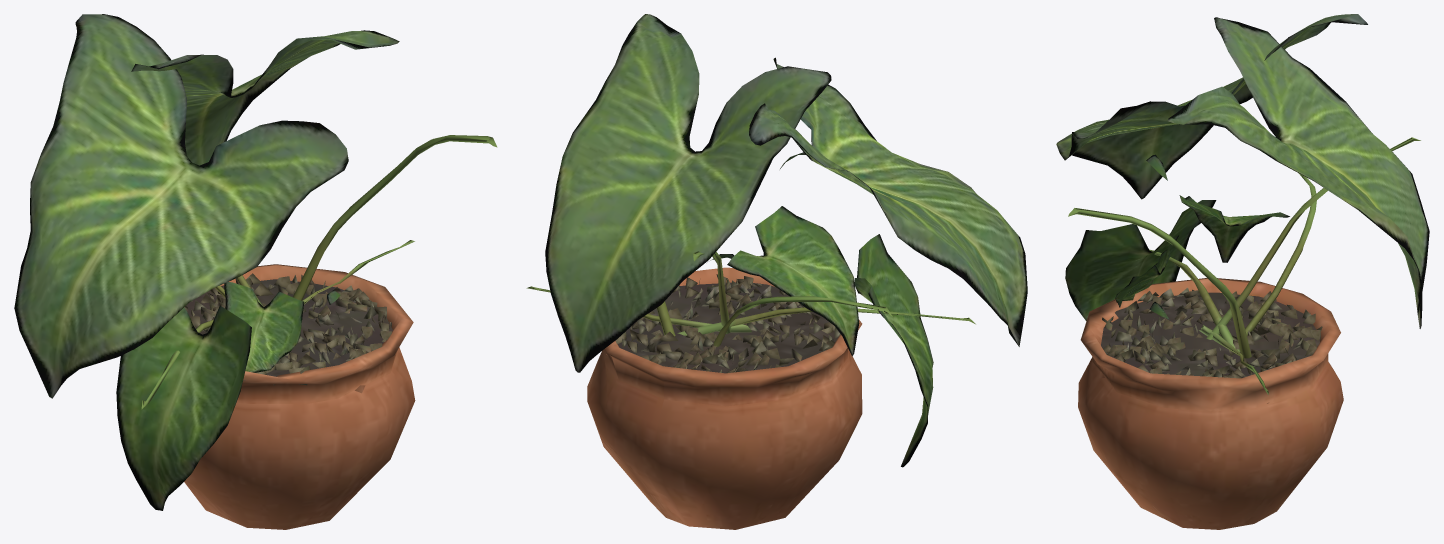
Rendered from jardiniere_plante_b_lod1.glb.
3 renders of one model, left to right at view 1: azimuth 30°, elevation 25°; view 2: azimuth 150°, elevation 25°; view 3: azimuth 270°, elevation 25°, orthographic. The views are drawn at different scales.
Parts seen in each view (by area): view 1: potted_plant_02_leaves, potted_plant_02_pot; view 2: potted_plant_02_leaves, potted_plant_02_pot; view 3: potted_plant_02_pot, potted_plant_02_leaves.
Boxes of the visible parts, box(x1,y1,x2,y2) form: potted_plant_02_leaves: box(14, 14, 497, 510); potted_plant_02_pot: box(184, 264, 415, 529); potted_plant_02_leaves: box(526, 14, 1027, 467); potted_plant_02_pot: box(587, 267, 862, 529); potted_plant_02_pot: box(1078, 278, 1343, 529); potted_plant_02_leaves: box(1056, 14, 1429, 394).
Bounding box in the file's own units: 0.8501 × 0.8533 × 0.6632.
Materials: 2 (2 with a texture image).
